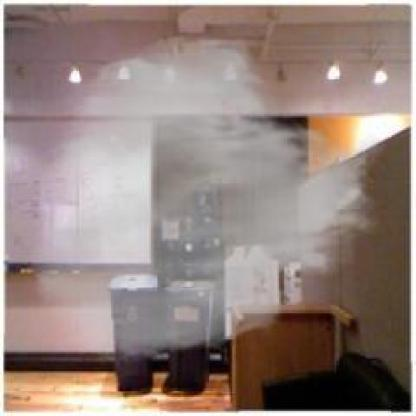Smoke: (28, 31, 388, 366)
